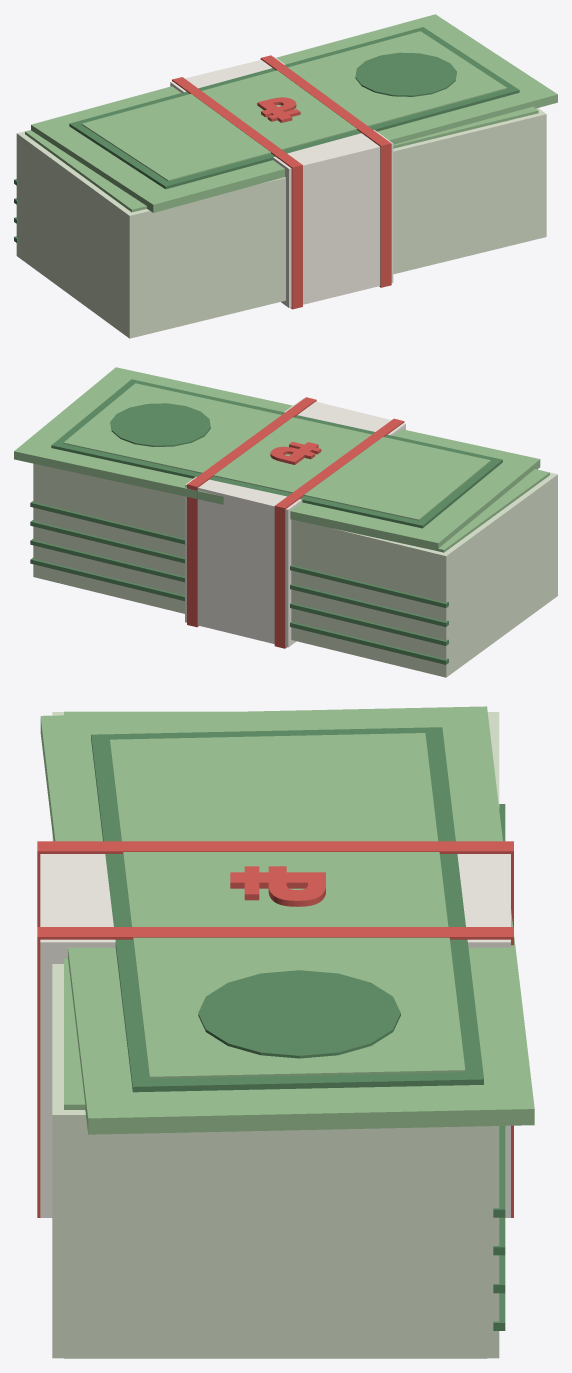
Rendered from money_stack.glb.
The picture shows the model from 3 angles, top to bottom: view 1: azimuth 30°, elevation 25°; view 2: azimuth 150°, elevation 25°; view 3: azimuth 270°, elevation 25°; orthographic projection. The views are drawn at different scales.
Visible parts, largest first — view 1: MoneyStack; view 2: MoneyStack; view 3: MoneyStack.
Part boxes in pixels (x1,y1,x2,y2): MoneyStack: (14, 14, 557, 338); MoneyStack: (14, 367, 557, 677); MoneyStack: (37, 706, 534, 1358).
Size of the model in its own units: 0.1683 by 0.053 by 0.0835.
